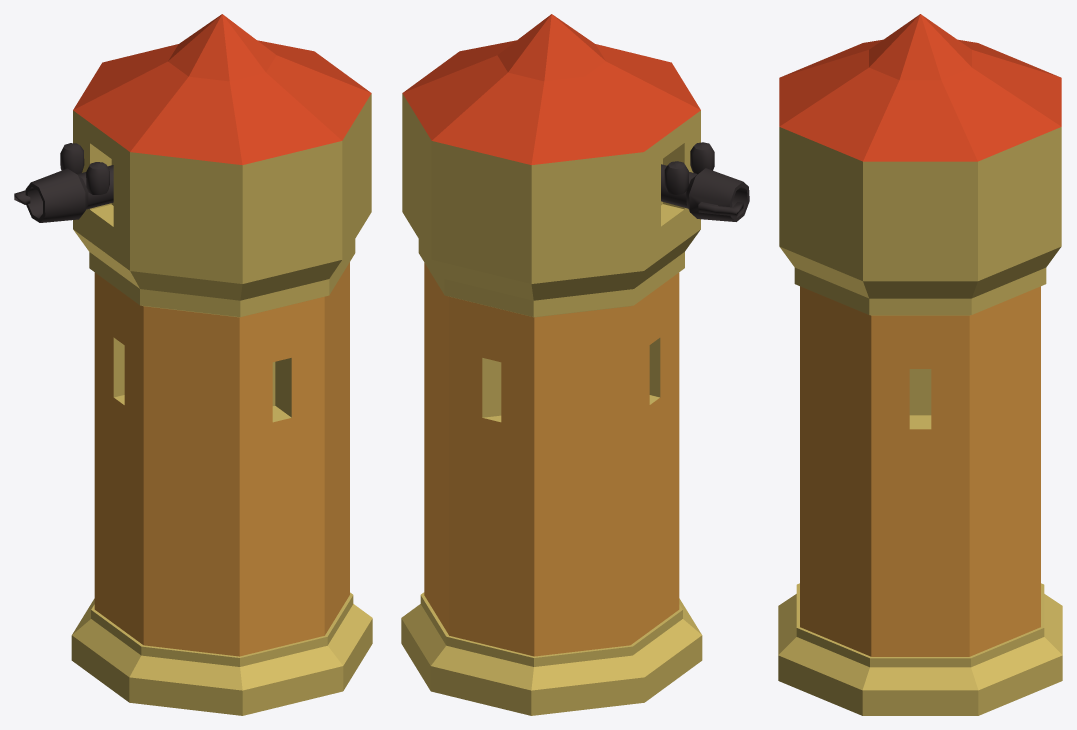
The model's file is FiregunTower.fbx.
3 renders of one model, left to right at view 1: azimuth 30°, elevation 25°; view 2: azimuth 150°, elevation 25°; view 3: azimuth 270°, elevation 25°, orthographic.
Parts seen in each view (by area): view 1: Plane, Head, Gun; view 2: Plane, Head, Gun; view 3: Plane, Head.
Part boxes in pixels (x1,y1,x2,y2): Plane: (71,239,372,715); Head: (73,14,371,300); Gun: (14,143,113,222); Plane: (401,239,702,715); Head: (402,14,700,300); Gun: (661,142,749,221); Plane: (778,267,1062,715); Head: (779,14,1061,298).
Size of the model in its own units: 585 by 1120 by 450.
